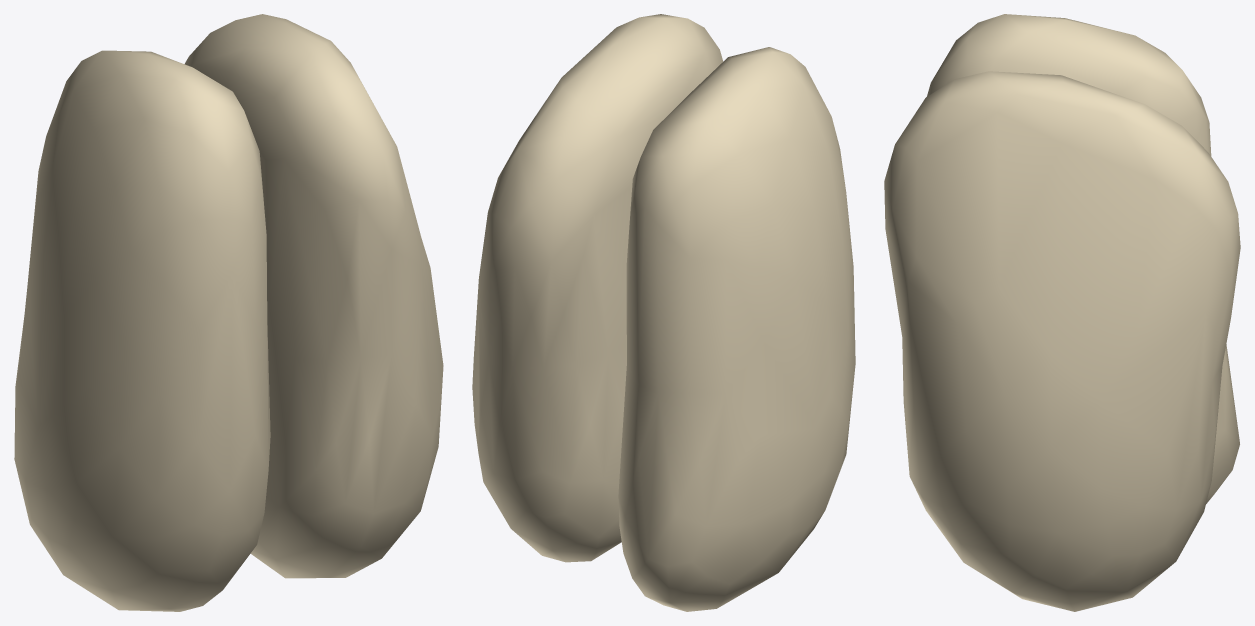
File: esqueleto-middle-cells-of-ethmoid-bone-l.glb
The picture shows the model from 3 angles, left to right: view 1: azimuth 30°, elevation 25°; view 2: azimuth 150°, elevation 25°; view 3: azimuth 270°, elevation 25°; orthographic projection. The views are drawn at different scales.
Visible parts, largest first — view 1: Middle cells of ethmoid bone.l; view 2: Middle cells of ethmoid bone.l; view 3: Middle cells of ethmoid bone.l.
Boxes of the visible parts, left/top/right/bottom form: Middle cells of ethmoid bone.l: left=14, top=14, right=443, bottom=611; Middle cells of ethmoid bone.l: left=472, top=14, right=855, bottom=611; Middle cells of ethmoid bone.l: left=884, top=14, right=1240, bottom=611.
Size of the model in its own units: 0.00904 by 0.0133 by 0.00837.
